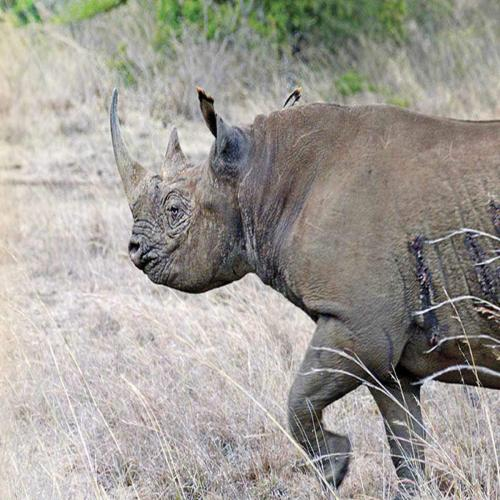rhino-endangered: (107, 85, 500, 490)
